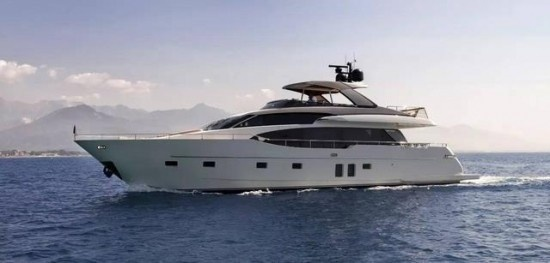yacht: (67, 56, 478, 190)
